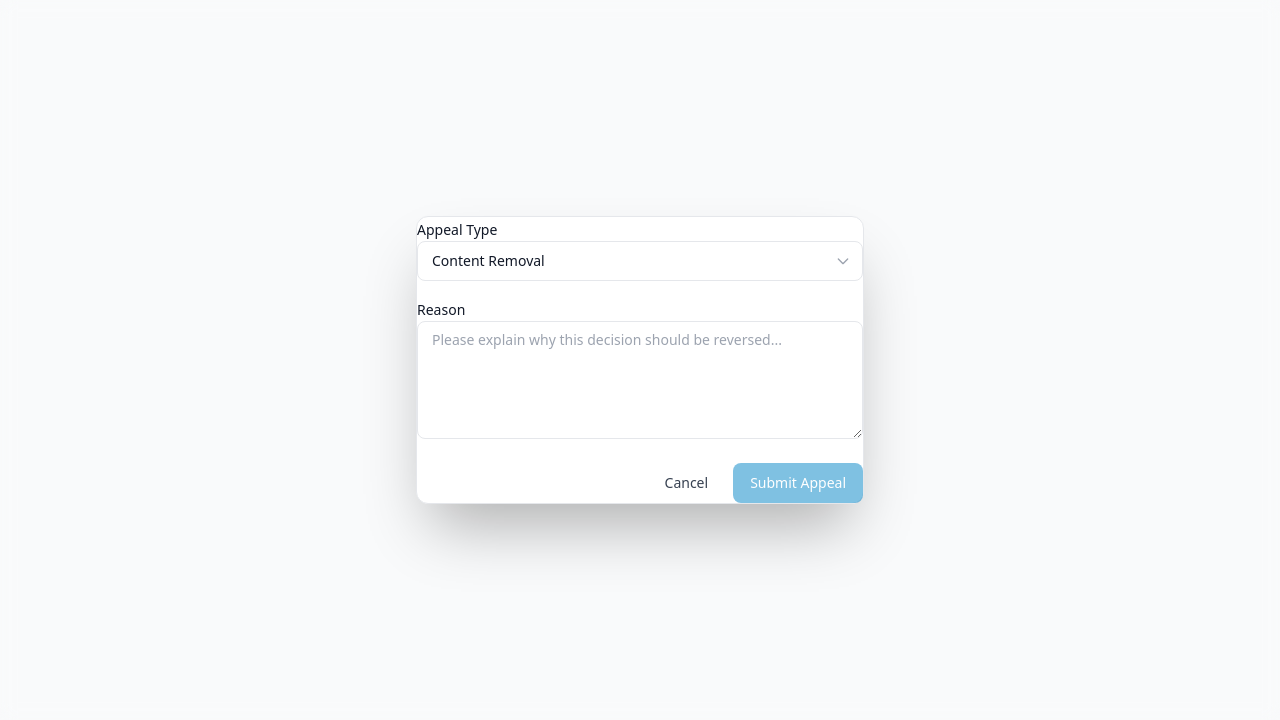
Test: AppealModal Component › should enable submit button when reason is provided
Type "This is my appeal reason" into the text box with placeholder "Please explain why this decision should be reversed...". click: (640, 380)
box: [417,321,863,439]
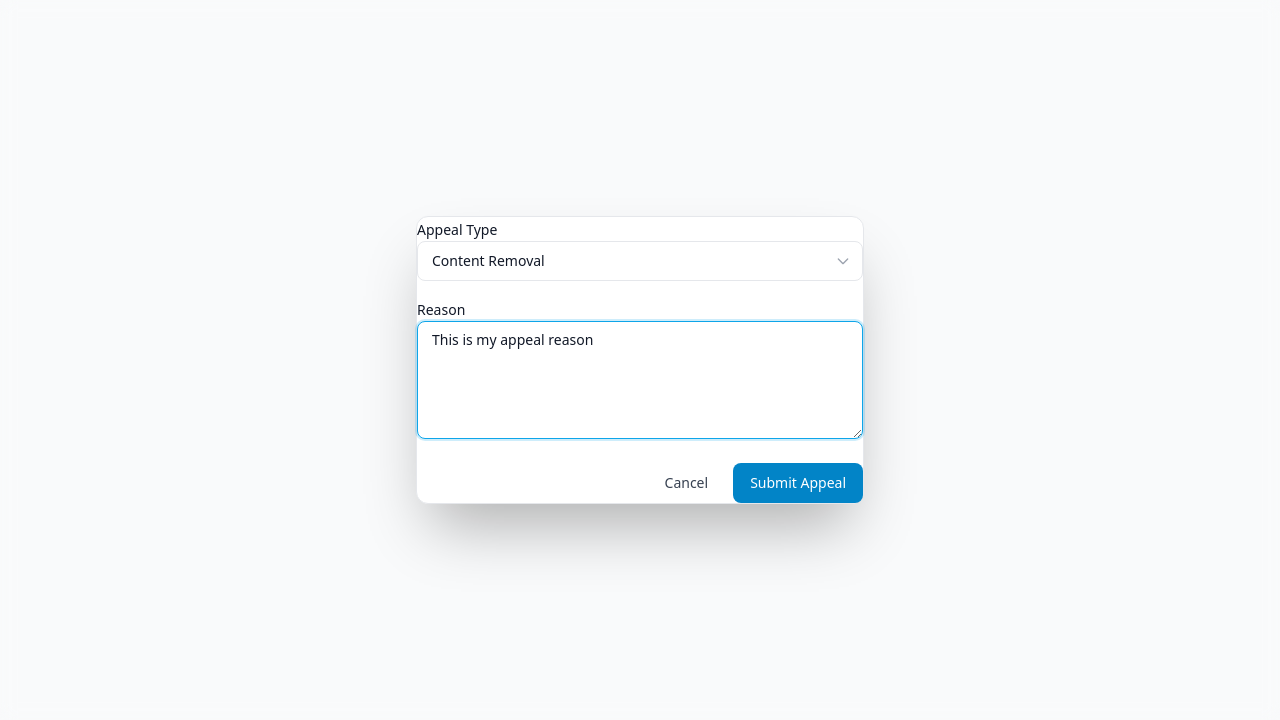
Expected: the button "Submit Appeal" is enabled, [733,463,863,503]
